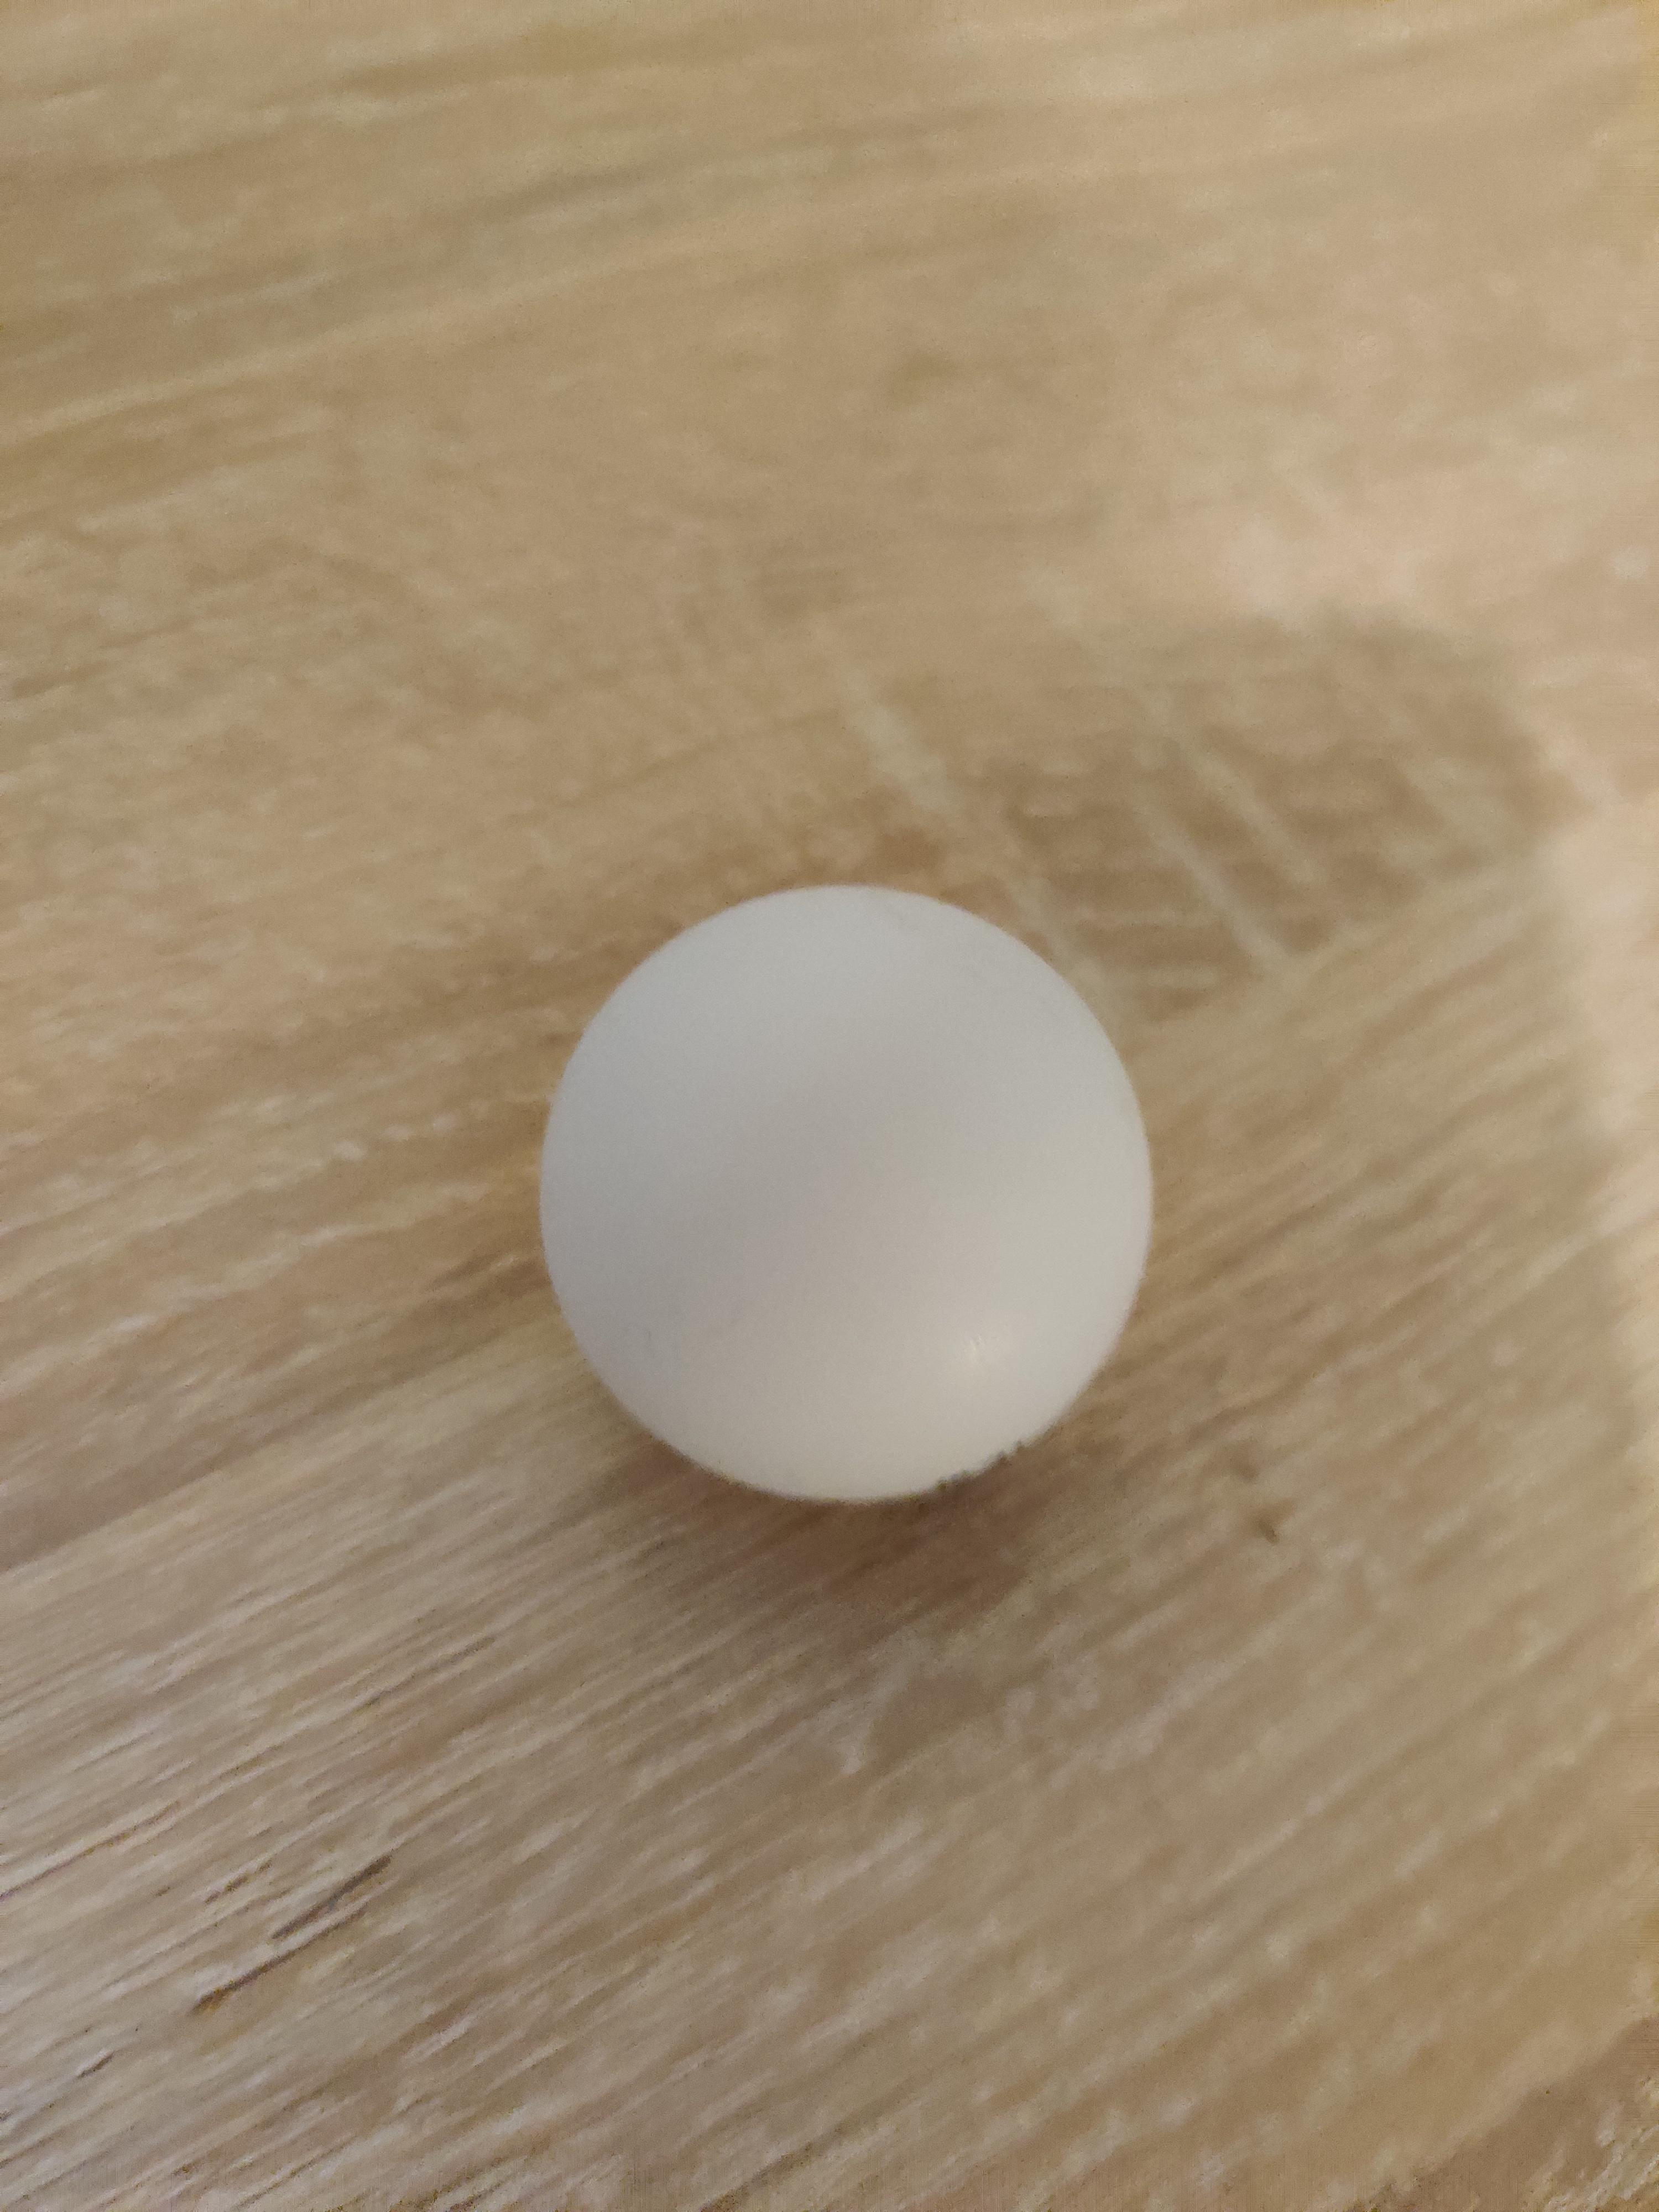white: (535, 880, 1162, 1515)
